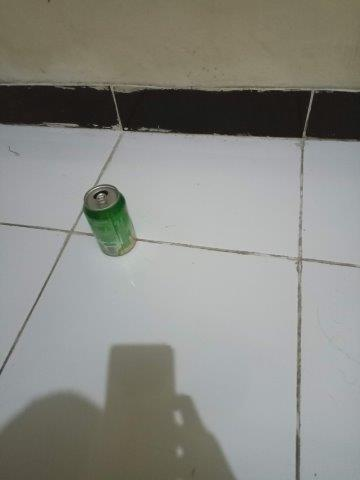kaleng: (83, 184, 137, 257)
